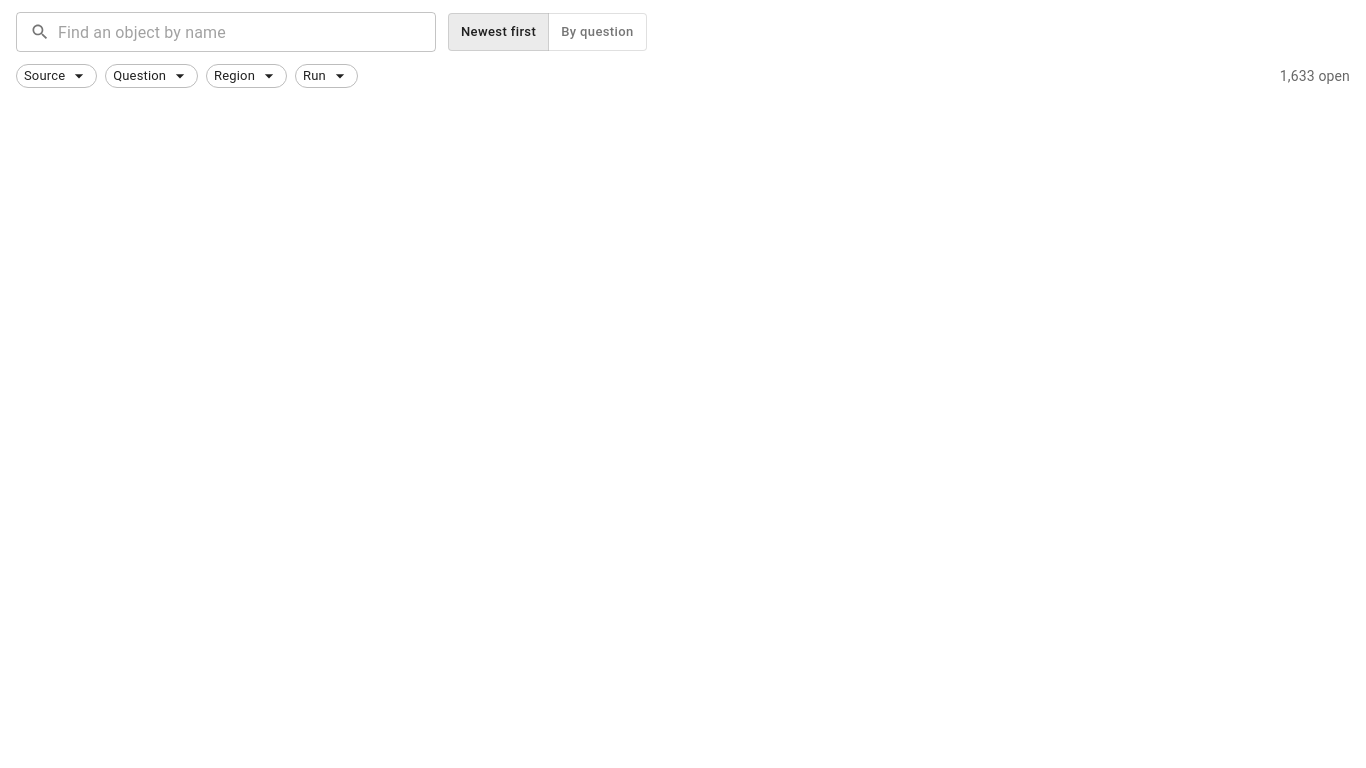
ReviewToolbar › shows a facet count of zero rather than hiding the row
Click the button "Question" at (152, 76), box [105,64,198,88]
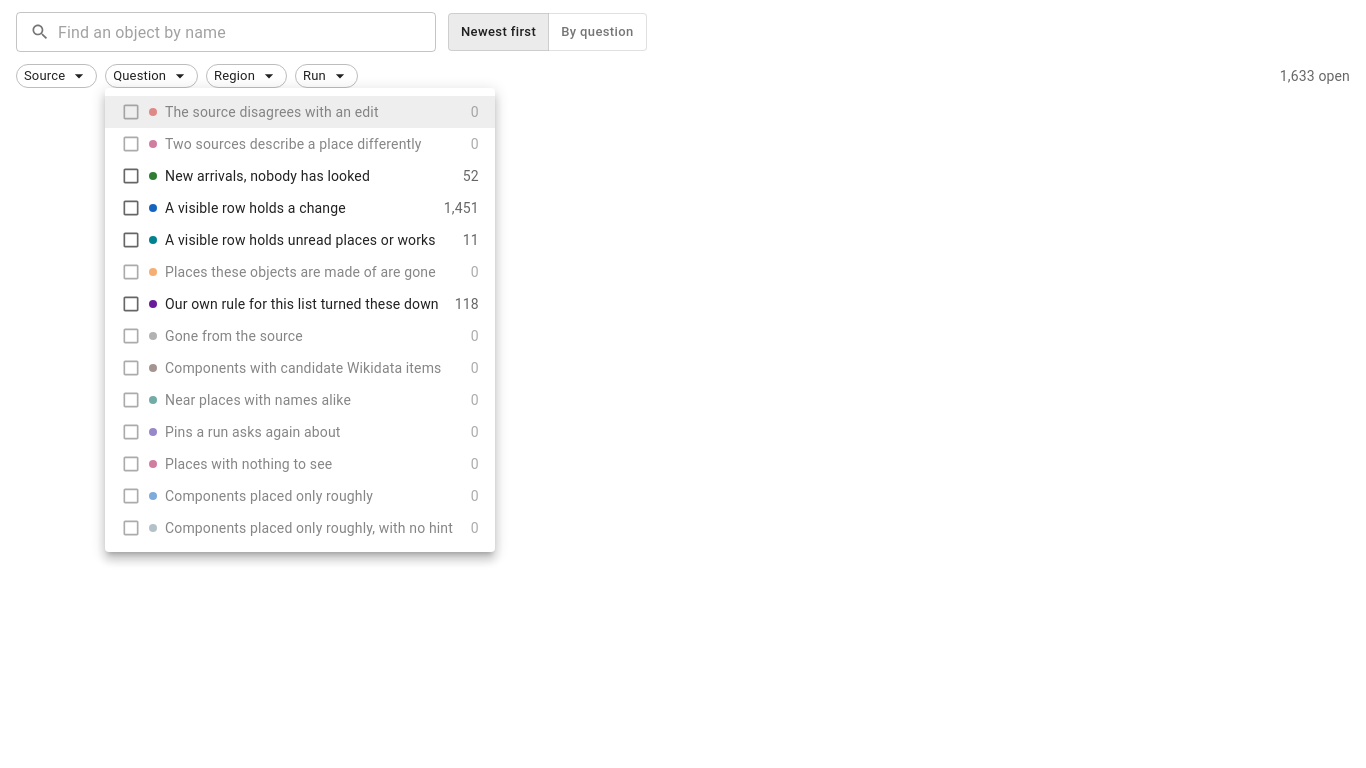
Check: the menu item "Gone from the source 0" is shown, box [105,320,495,352]
